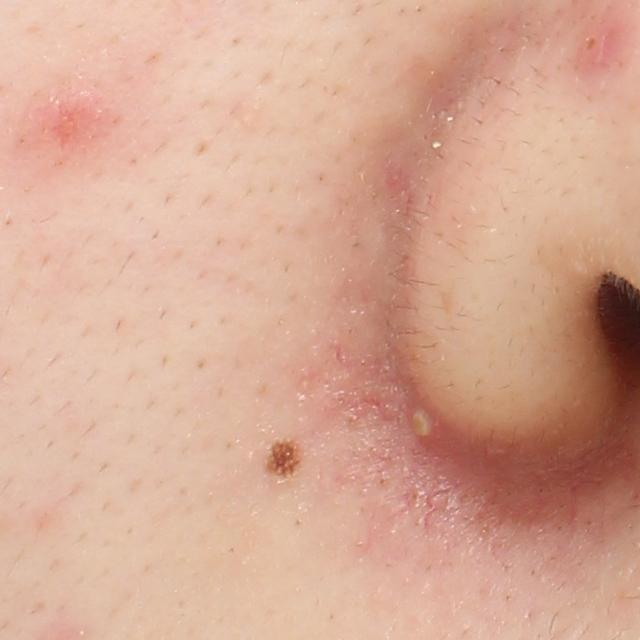nevus: (261, 434, 307, 482)
pustule: (400, 402, 441, 452)
